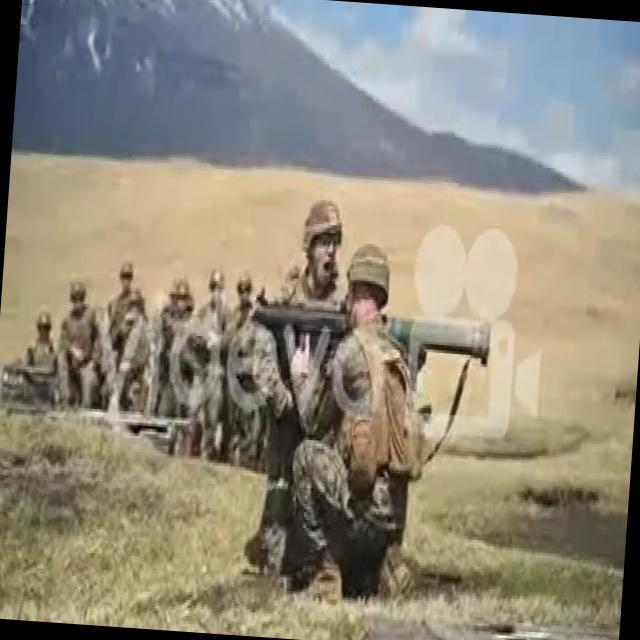rocket: (251, 294, 490, 364)
